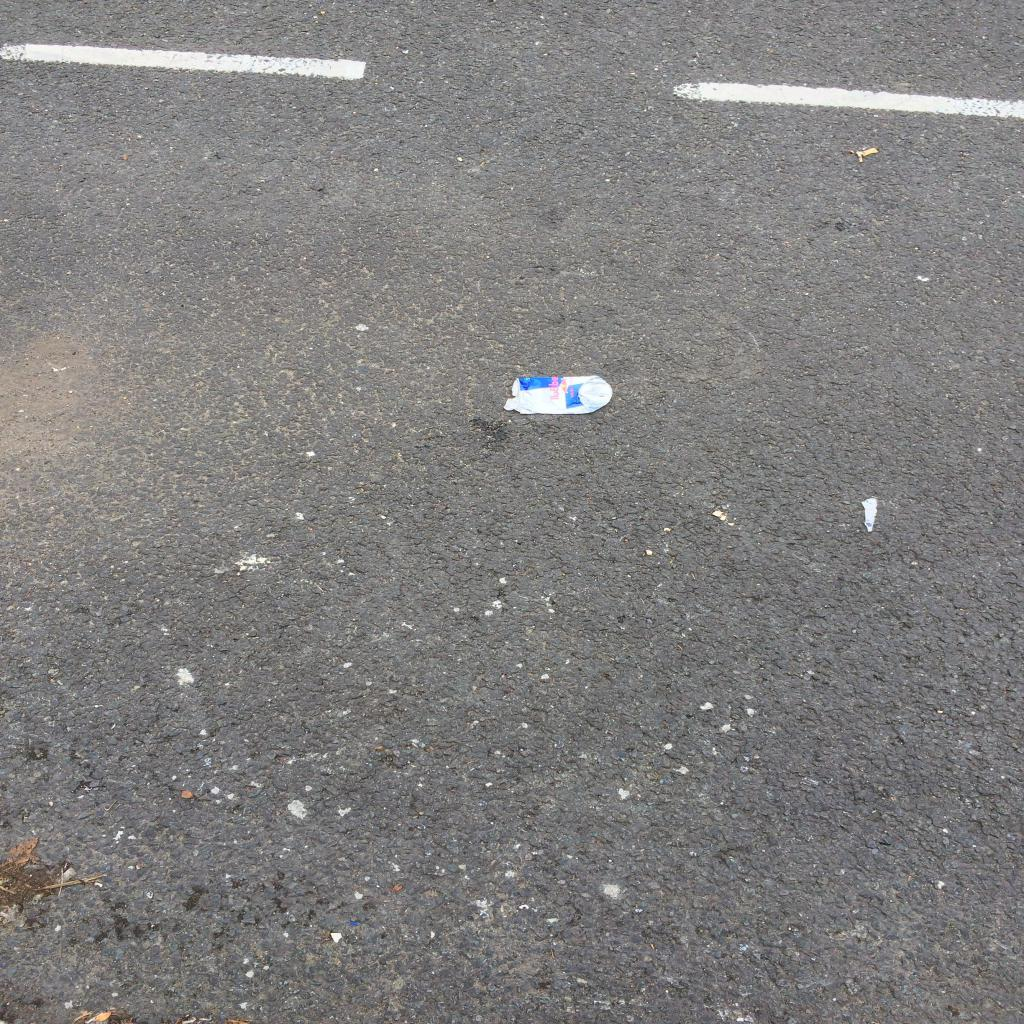Drink can: (504, 375, 614, 414)
Unlabeled litter: (860, 498, 876, 532)
